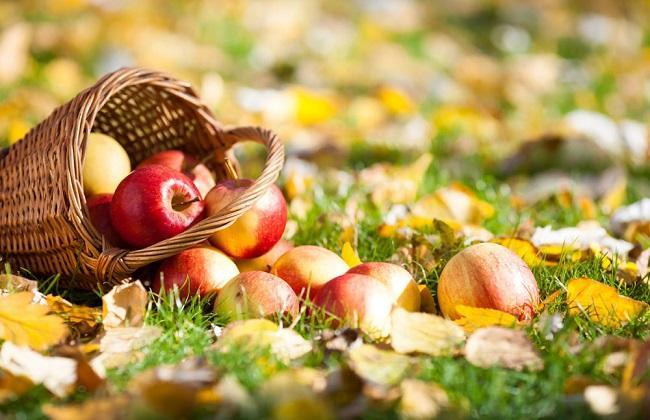apple: (435, 240, 542, 328), (107, 163, 203, 249), (201, 183, 290, 261), (151, 247, 239, 316), (153, 248, 238, 312), (212, 271, 299, 326), (345, 263, 422, 313), (311, 275, 392, 322), (81, 131, 129, 201), (270, 246, 346, 288)
